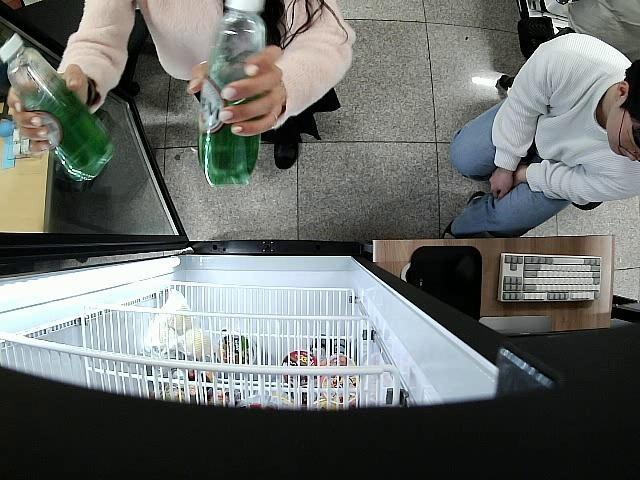18_trevi: (0, 34, 113, 184), (197, 0, 266, 188)
